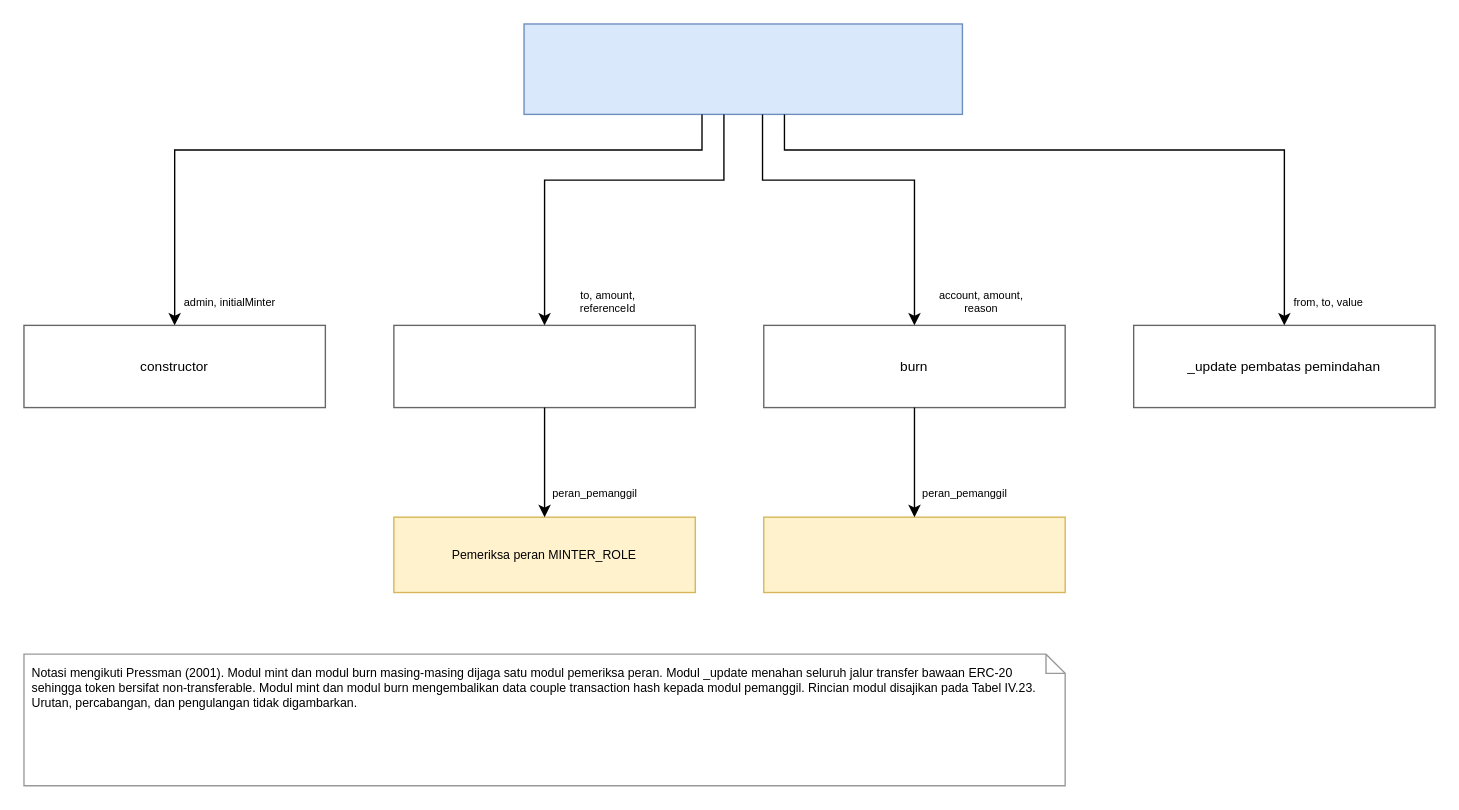
Some shapes in this 1459 by 810 pixel diagram are drawn without their labels. Each missing label, with the centre of its shape:
"mint" belongs at (544,366).
"Modul Integrasi Token pada lapisan aplikasi web" belongs at (742,68).
"Pemeriksa peran DEFAULT_ADMIN_ROLE" belongs at (913,554).
